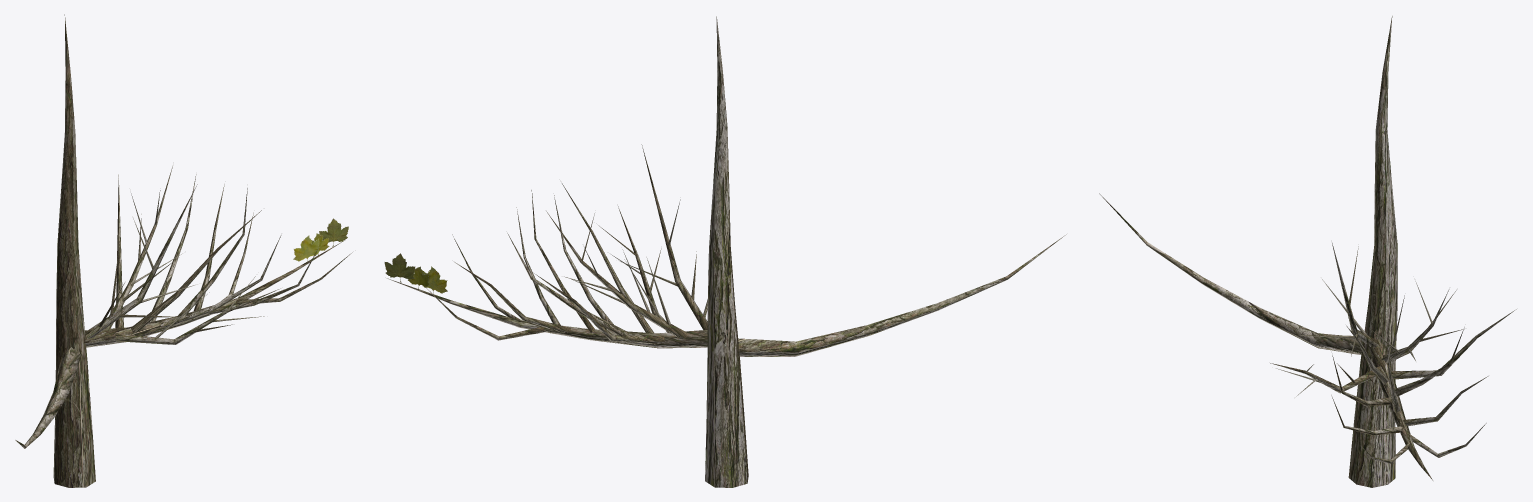
Rendered from final-tree.fbx.
The picture shows the model from 3 angles, left to right: view 1: azimuth 30°, elevation 25°; view 2: azimuth 150°, elevation 25°; view 3: azimuth 270°, elevation 25°; orthographic projection. The views are drawn at different scales.
Visible parts, largest first — view 1: tree.001, tree.003, tree.002, tree.059, tree.061, tree.063, tree.065, tree.060, tree.062, tree.064, tree.066, tree.068 (+3 smaller); view 2: tree.001, tree.002, tree.003, tree.060, tree.059, tree.062; view 3: tree.001, tree.002, tree.003, tree.062, tree.059, tree.061.
Part boxes in pixels (x1,y1,x2,y2): tree.001: (53,14,95,487); tree.003: (83,242,341,347); tree.002: (15,347,81,448); tree.059: (85,184,197,338); tree.061: (115,288,280,344); tree.063: (131,210,261,333); tree.065: (160,235,281,327); tree.060: (105,166,172,330); tree.062: (115,174,123,328); tree.064: (149,174,196,322); tree.066: (177,188,247,316); tree.068: (208,248,318,314); tree.001: (705,16,748,487); tree.002: (738,234,1066,356); tree.003: (387,278,707,348); tree.060: (546,211,686,339); tree.059: (641,144,707,330); tree.062: (534,273,664,344); tree.001: (1348,16,1397,487); tree.002: (1099,193,1362,354); tree.003: (1367,339,1432,480); tree.062: (1391,309,1516,379); tree.059: (1332,243,1378,348); tree.061: (1270,363,1380,393).
Bounding box in the file's own units: 1302 × 1142 × 939.
